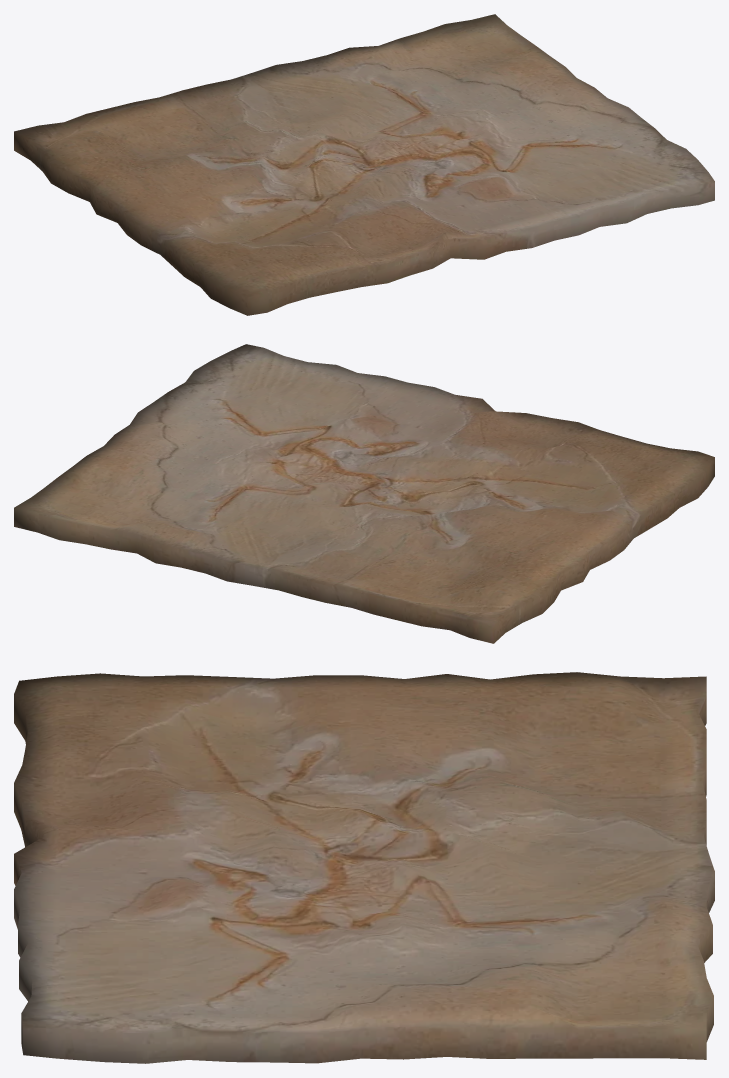
File: PRP_FossilBird.glb
3 renders of one model, top to bottom at view 1: azimuth 30°, elevation 25°; view 2: azimuth 150°, elevation 25°; view 3: azimuth 270°, elevation 25°, orthographic. The views are drawn at different scales.
Visible parts, largest first — view 1: Object_2; view 2: Object_2; view 3: Object_2.
Part boxes in pixels (bbox=[...]): Object_2: bbox=[14, 14, 714, 315]; Object_2: bbox=[14, 344, 714, 643]; Object_2: bbox=[14, 672, 714, 1063].
Bounding box in the file's own units: 1.28 × 0.0569 × 1.04.
1 material, 1 textured.
